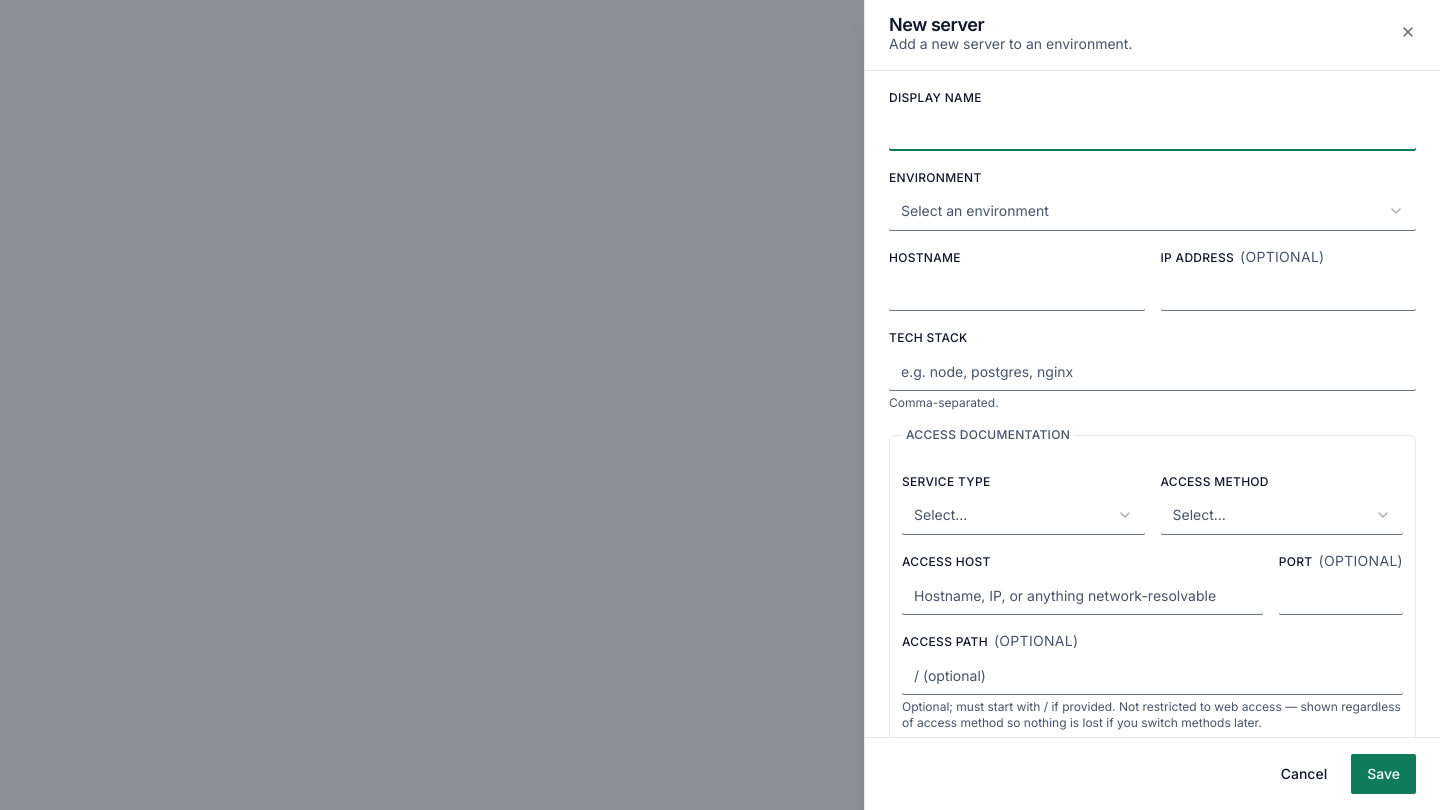
ServerFormSheet — create › blocks submit with client-side errors when required fields are empty
Click the button "Save" at (1384,774), box [1351, 754, 1416, 794]
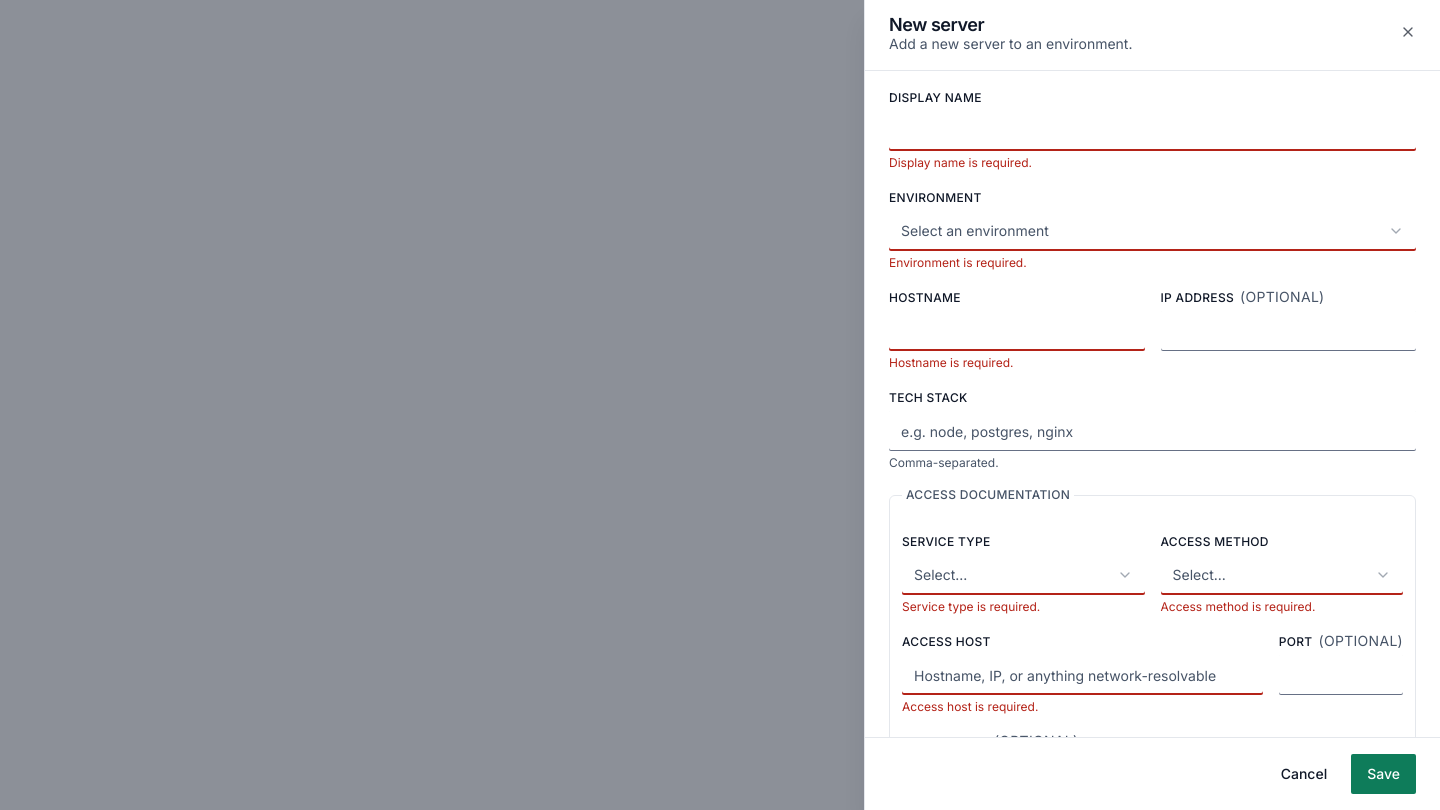
Now the text "Display name is required." is shown, box [889, 155, 1032, 170]
Now the text "Environment is required." is shown, box [889, 255, 1027, 270]
Now the text "Hostname is required." is shown, box [889, 355, 1014, 370]
